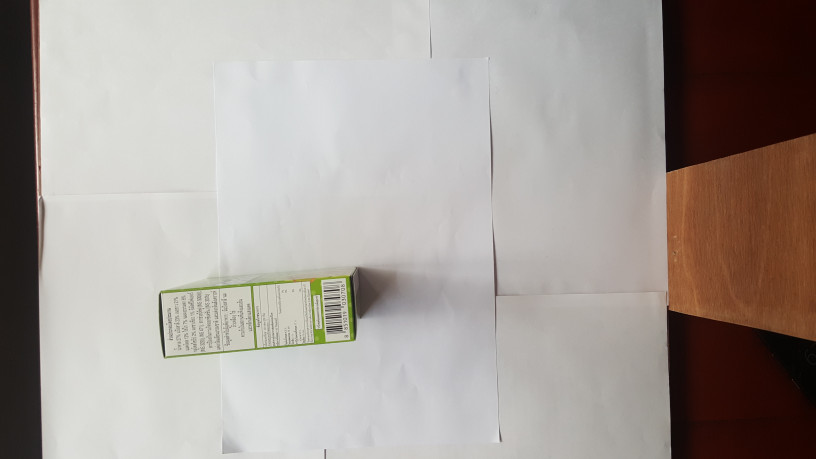collon-matcha: (154, 266, 359, 361)
